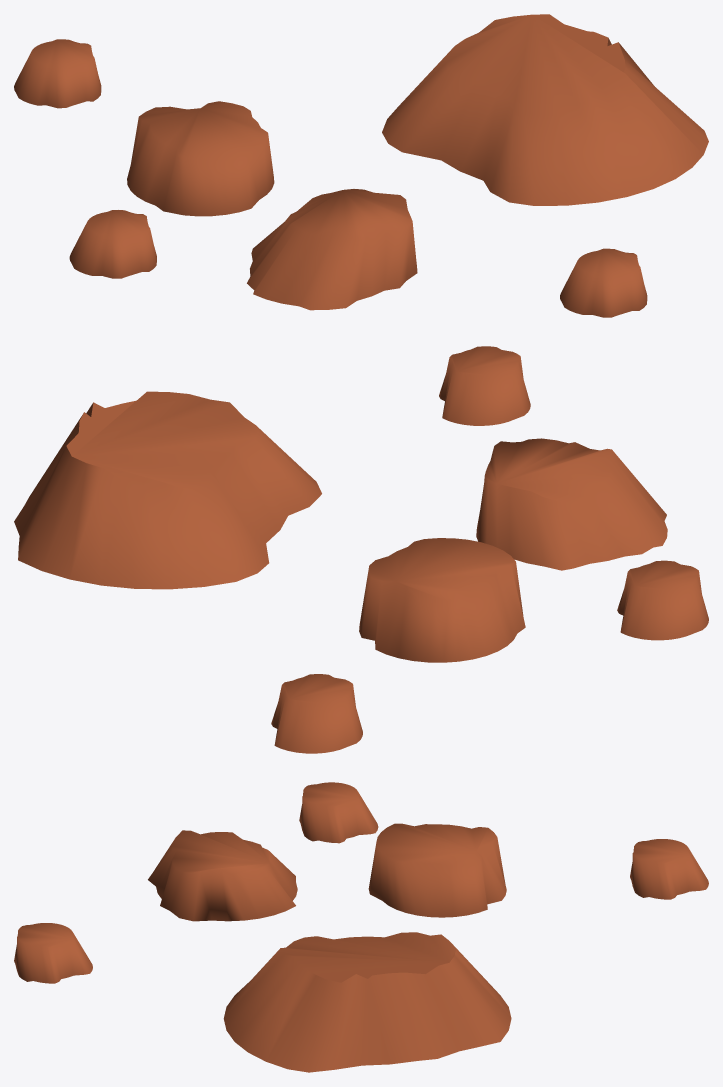
Rendered from камни2.fbx.
3 renders of one model, top to bottom at view 1: azimuth 30°, elevation 25°; view 2: azimuth 150°, elevation 25°; view 3: azimuth 270°, elevation 25°, orthographic. The views are drawn at different scales.
Visible parts, largest first — view 1: Cylinder.003, Cylinder, Cylinder.002, Cylinder.005, Cylinder.004, Cylinder.001; view 2: Cylinder.003, Cylinder, Cylinder.002, Cylinder.001, Cylinder.005, Cylinder.004; view 3: Cylinder.003, Cylinder.002, Cylinder, Cylinder.001, Cylinder.005, Cylinder.004.
Boxes of the visible parts, x1,y1,x2,y2 form: Cylinder.003: [382, 14, 708, 205]; Cylinder: [247, 189, 417, 310]; Cylinder.002: [127, 101, 274, 216]; Cylinder.005: [14, 39, 101, 108]; Cylinder.004: [560, 248, 647, 317]; Cylinder.001: [69, 210, 156, 278]; Cylinder.003: [14, 391, 321, 589]; Cylinder: [476, 438, 667, 570]; Cylinder.002: [359, 538, 525, 662]; Cylinder.001: [617, 560, 708, 640]; Cylinder.005: [271, 674, 362, 753]; Cylinder.004: [439, 346, 530, 425]; Cylinder.003: [223, 932, 511, 1072]; Cylinder.002: [368, 823, 506, 917]; Cylinder: [148, 830, 297, 921]; Cylinder.001: [299, 782, 378, 843]; Cylinder.005: [630, 839, 708, 899]; Cylinder.004: [14, 923, 92, 983].
Bounding box in the file's own units: 758 × 102 × 847.
